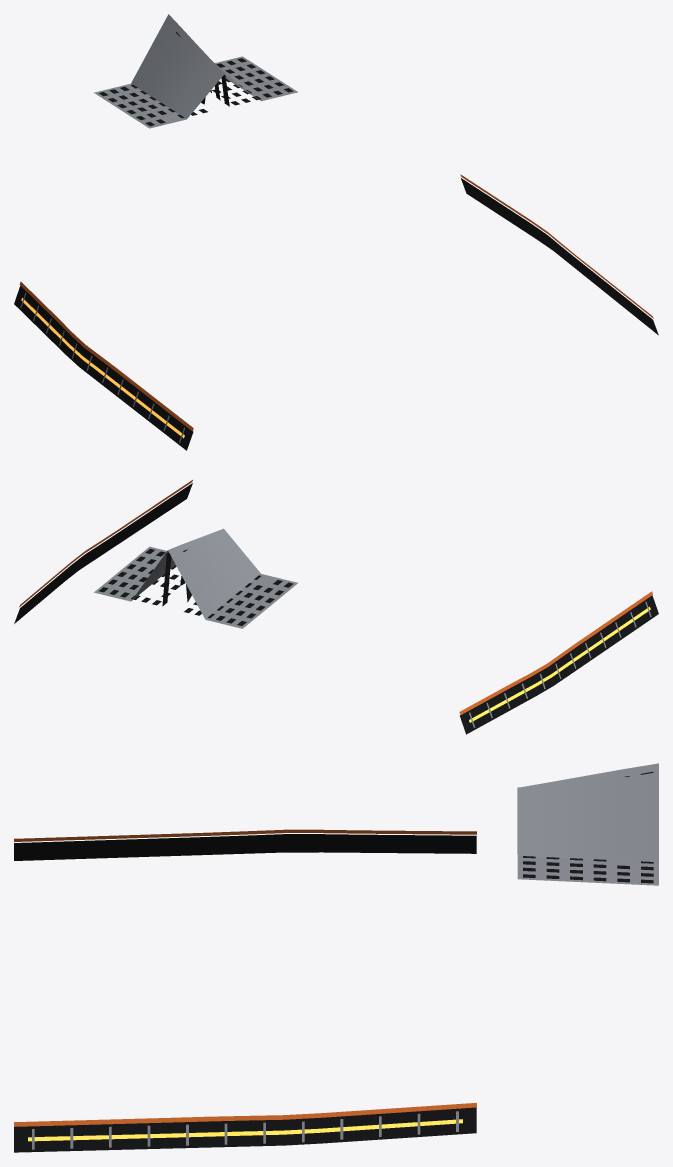
File: bastion_cooling_lg.fbx
3 views of the same model, one above another, from view 1: azimuth 30°, elevation 25°; view 2: azimuth 150°, elevation 25°; view 3: azimuth 270°, elevation 25° (orthographic). The views are drawn at different scales.
Visible parts, largest first — view 1: Cooling_Channel; view 2: Cooling_Channel; view 3: Cooling_Channel.
Boxes of the visible parts, <box> form: Cooling_Channel: <box>14,14,658,450</box>; Cooling_Channel: <box>14,480,658,734</box>; Cooling_Channel: <box>14,763,658,1152</box>.
Size of the model in its own units: 140 by 54.37 by 130.
